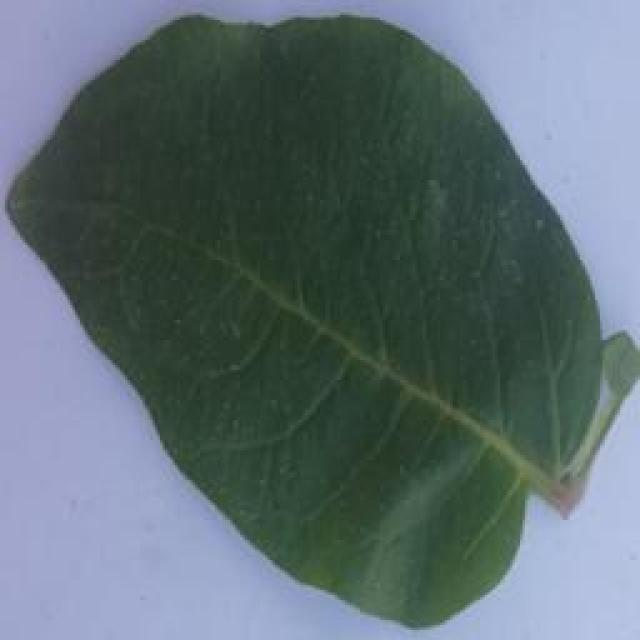Potato_Healthy: (6, 14, 624, 632)
